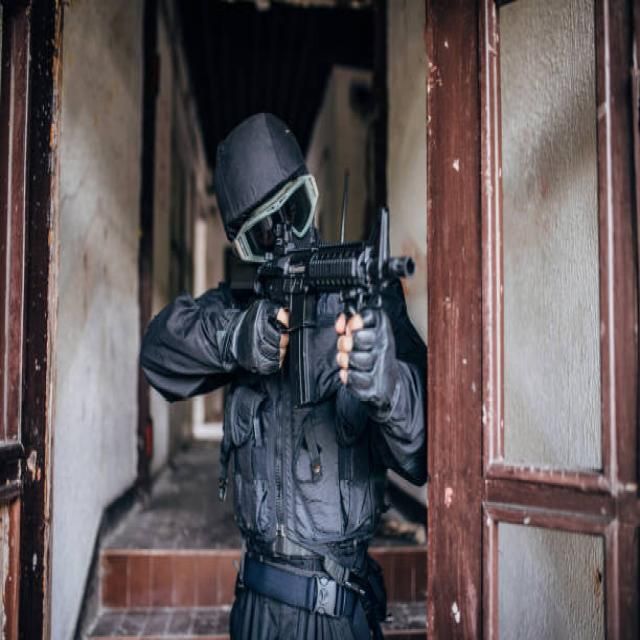soldier: (164, 79, 471, 640)
